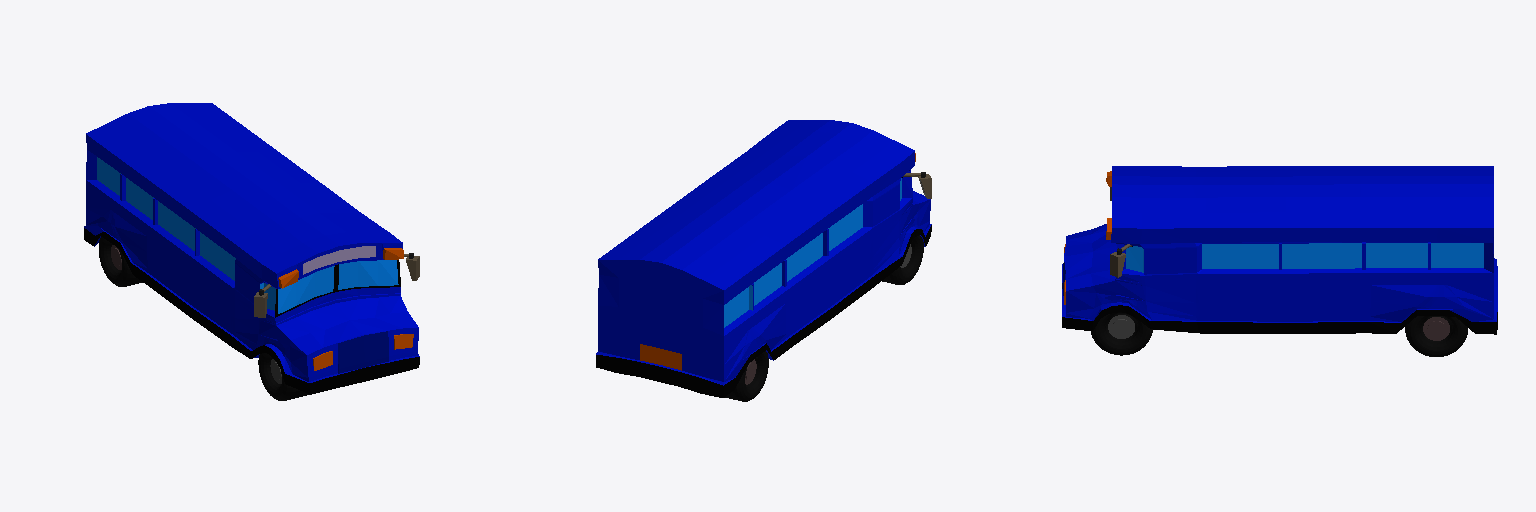
Rendered from autobus1.obj.
The picture shows the model from 3 angles: view 1: azimuth 30°, elevation 25°; view 2: azimuth 150°, elevation 25°; view 3: azimuth 270°, elevation 25°; orthographic projection.
Visible parts, largest first — view 1: Cube_Cube.001, back_tires_Cylinder.001, front_tires_Cylinder, Mirror_001_Mesh.001; view 2: Cube_Cube.001, back_tires_Cylinder.001, front_tires_Cylinder; view 3: Cube_Cube.001, back_tires_Cylinder.001, front_tires_Cylinder.
Boxes of the visible parts, <box> form: Cube_Cube.001: <box>84,103,419,393</box>; back_tires_Cylinder.001: <box>99,237,142,286</box>; front_tires_Cylinder: <box>258,353,319,400</box>; Mirror_001_Mesh.001: <box>254,253,419,317</box>; Cube_Cube.001: <box>596,120,931,397</box>; back_tires_Cylinder.001: <box>725,351,768,401</box>; front_tires_Cylinder: <box>882,235,923,284</box>; Cube_Cube.001: <box>1062,166,1497,334</box>; back_tires_Cylinder.001: <box>1405,316,1467,356</box>; front_tires_Cylinder: <box>1091,312,1152,355</box>.
Bounding box in the file's own units: 4.56 × 3.77 × 10.41.